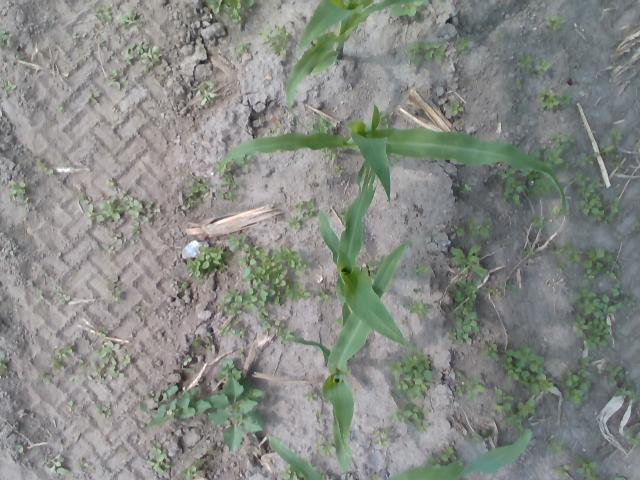Maize: (212, 103, 566, 210), (289, 243, 404, 470), (316, 161, 418, 348), (282, 1, 403, 116), (270, 427, 532, 480)
Weeds: (238, 244, 311, 320), (208, 376, 264, 452), (571, 283, 625, 352), (139, 384, 210, 428), (499, 343, 554, 395), (386, 352, 434, 401), (447, 278, 482, 344), (568, 170, 606, 223), (557, 354, 592, 406), (186, 243, 230, 284), (96, 192, 154, 222), (90, 340, 132, 379), (603, 361, 640, 405), (582, 248, 620, 283), (450, 244, 489, 278), (390, 402, 430, 435), (505, 398, 535, 442), (124, 40, 162, 74), (496, 164, 526, 206), (204, 0, 256, 23), (404, 40, 446, 66), (258, 24, 290, 56), (453, 370, 485, 401), (515, 54, 553, 78), (530, 145, 563, 171), (528, 169, 556, 199), (145, 442, 170, 475), (553, 241, 580, 270), (184, 178, 210, 208), (539, 88, 574, 110), (390, 0, 424, 22), (426, 446, 457, 468), (218, 288, 242, 316), (220, 172, 240, 202), (576, 455, 600, 480), (195, 80, 218, 106), (215, 358, 242, 380), (179, 458, 206, 480), (52, 344, 74, 370), (42, 457, 72, 476), (466, 218, 492, 239), (104, 276, 124, 303), (273, 320, 295, 344), (292, 198, 316, 219), (362, 252, 387, 272), (604, 198, 622, 224), (544, 12, 566, 33), (217, 322, 245, 338), (118, 8, 138, 30), (308, 117, 333, 134), (495, 388, 514, 410), (91, 3, 113, 22), (403, 300, 427, 317), (280, 463, 304, 480), (550, 132, 575, 148), (373, 426, 391, 448), (234, 152, 256, 170), (468, 429, 492, 445), (316, 439, 336, 457), (228, 234, 250, 250), (577, 150, 599, 166), (8, 178, 25, 197), (310, 27, 329, 44), (452, 180, 472, 196), (108, 68, 123, 89), (598, 140, 614, 158), (376, 110, 392, 128), (0, 350, 10, 378), (215, 159, 231, 176), (547, 438, 564, 454), (456, 34, 472, 51), (0, 80, 16, 97), (320, 146, 337, 162), (625, 426, 640, 444), (483, 343, 498, 361), (554, 464, 570, 480), (448, 100, 464, 116), (94, 404, 112, 418), (0, 27, 12, 48), (37, 160, 54, 174), (610, 128, 624, 145), (54, 292, 72, 305), (410, 264, 430, 275), (128, 222, 142, 237), (286, 216, 301, 230), (108, 230, 121, 246), (317, 288, 330, 304), (85, 204, 93, 227), (38, 373, 52, 386), (624, 294, 636, 308), (532, 214, 544, 228), (235, 42, 247, 56), (85, 92, 98, 104), (453, 223, 464, 237), (388, 152, 403, 162), (258, 319, 270, 331), (303, 391, 316, 402), (192, 334, 202, 348), (550, 204, 560, 218), (611, 160, 625, 170), (512, 76, 522, 90), (506, 281, 518, 292), (76, 194, 89, 204), (520, 248, 536, 256), (308, 460, 318, 472), (564, 161, 577, 170), (631, 220, 640, 232), (14, 50, 24, 60), (339, 205, 348, 216), (274, 122, 283, 133), (181, 280, 190, 290), (333, 165, 342, 175), (105, 179, 116, 187), (16, 443, 24, 453), (97, 330, 107, 338), (484, 286, 494, 294), (613, 475, 628, 480), (496, 32, 504, 40), (78, 358, 84, 368), (316, 411, 324, 418), (21, 198, 28, 204)
